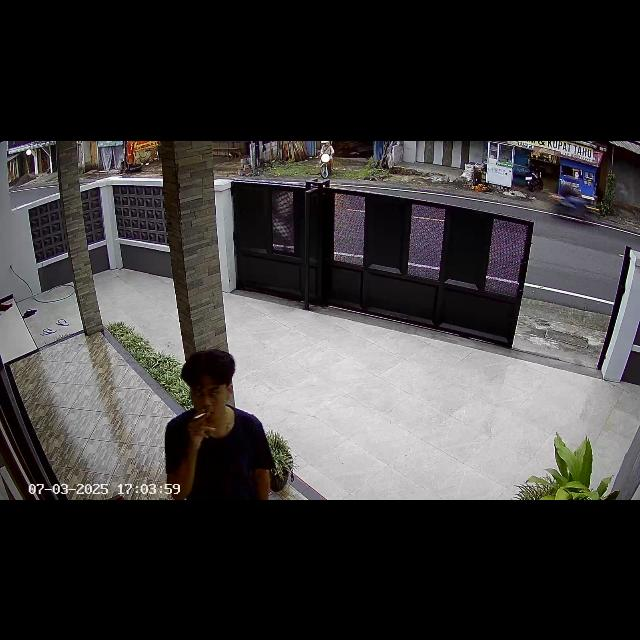rokok: (194, 409, 208, 419)
